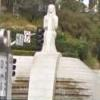Statue: (35, 3, 75, 60)
